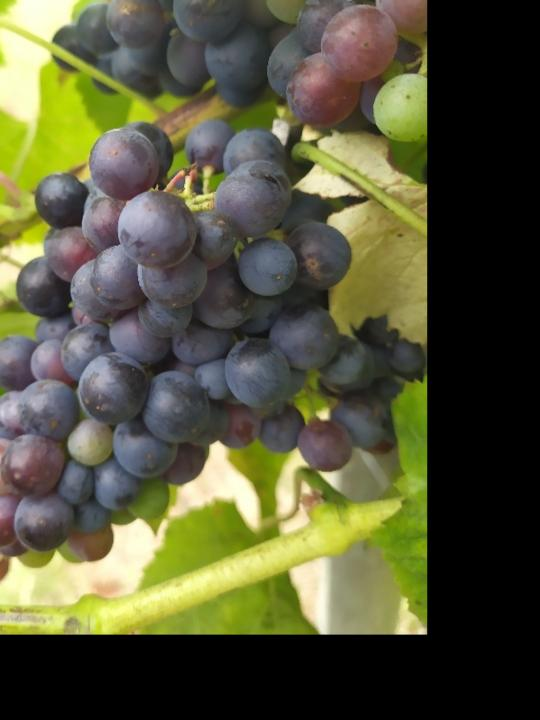grape: (0, 116, 356, 572)
